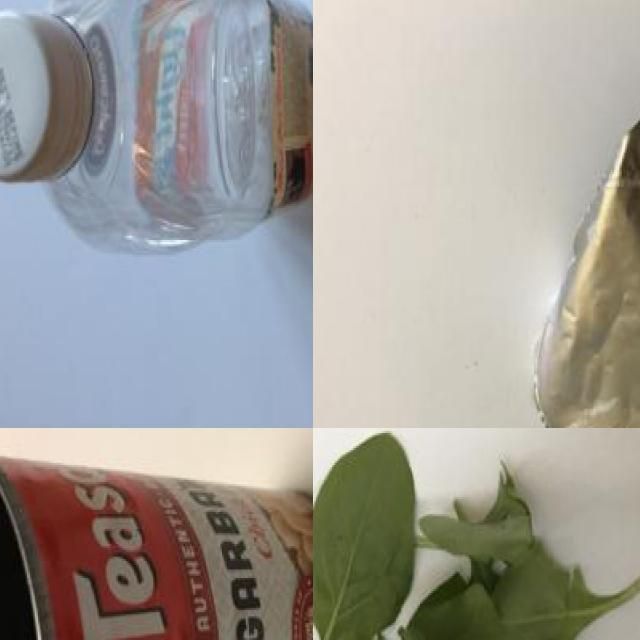compost: (313, 446, 640, 640)
plastic: (0, 0, 313, 254), (1, 433, 313, 640)
trash: (528, 87, 640, 428)
